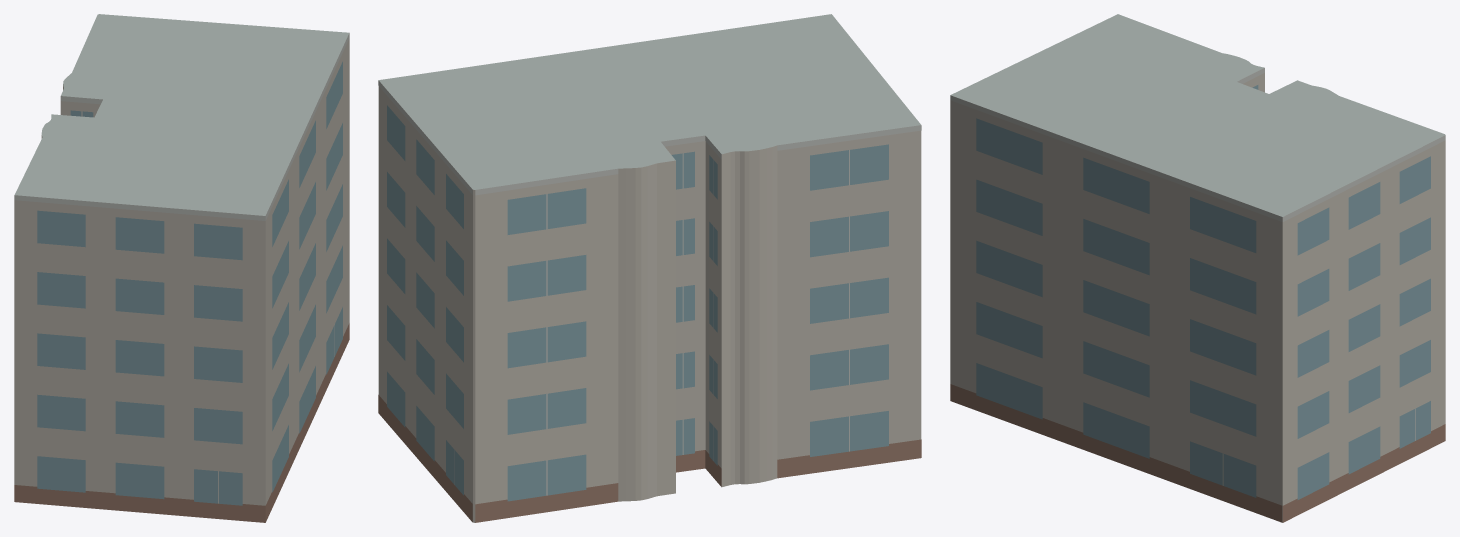
File: survey-upis-32778369.glb
3 renders of one model, left to right at view 1: azimuth 30°, elevation 25°; view 2: azimuth 150°, elevation 25°; view 3: azimuth 270°, elevation 25°, orthographic. The views are drawn at different scales.
Visible parts, largest first — view 1: survey-upis-32778369.tmp; view 2: survey-upis-32778369.tmp; view 3: survey-upis-32778369.tmp.
Boxes of the visible parts, bbox=[...] form: survey-upis-32778369.tmp: bbox=[14, 14, 349, 522]; survey-upis-32778369.tmp: bbox=[378, 14, 921, 522]; survey-upis-32778369.tmp: bbox=[950, 14, 1445, 522].
Size of the model in its own units: 21.07 by 14.78 by 21.71.
